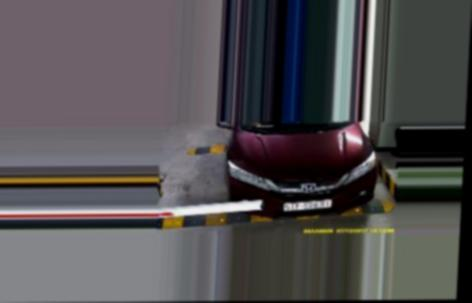License_Plate: (282, 197, 335, 214)
